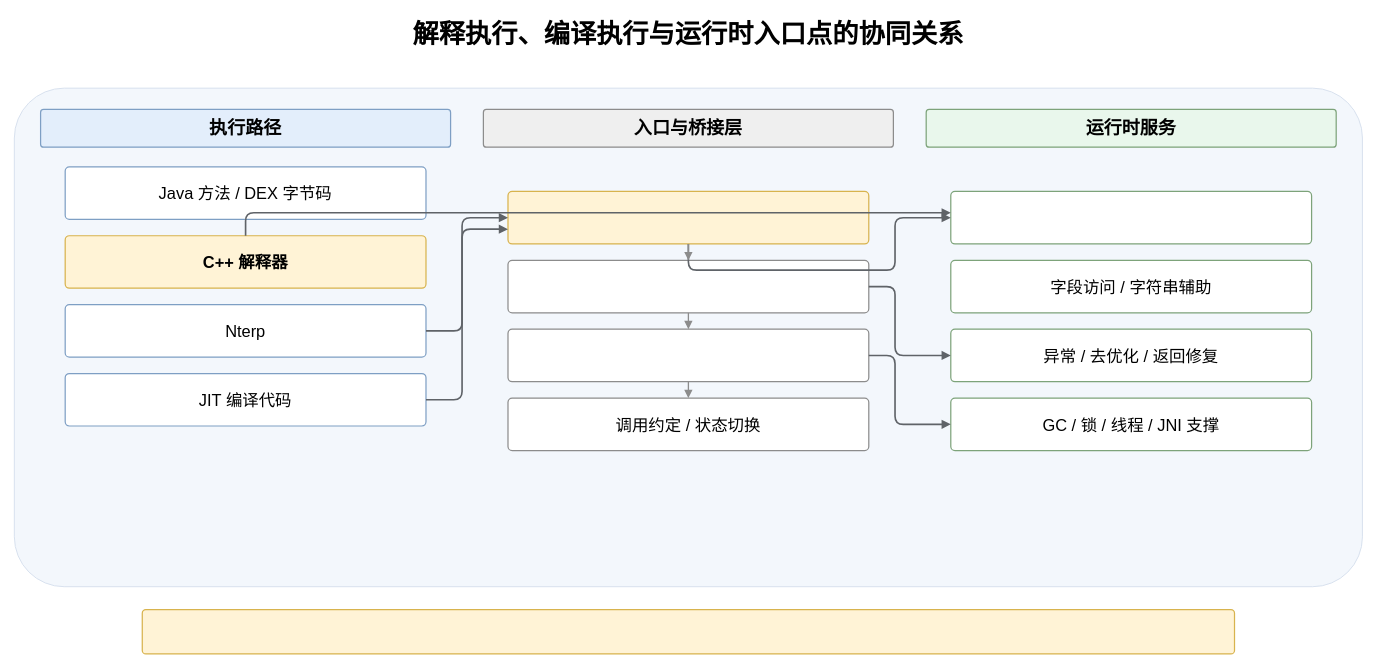
Image size: 1378x668. Some labels were removed from this diagram. The centre of each missing label's shape, as x and y in pixels:
JNI Bridge / Native Stub: point 688,355
Quick Entrypoints: point 688,217
Trampolines: point 688,286
关系说明：解释器可直连部分辅助路径；Nterp 与编译代码主要通过统一入口层收敛接入运行时: point 688,631
分配 / 类解析 / 类型检查: point 1131,217
